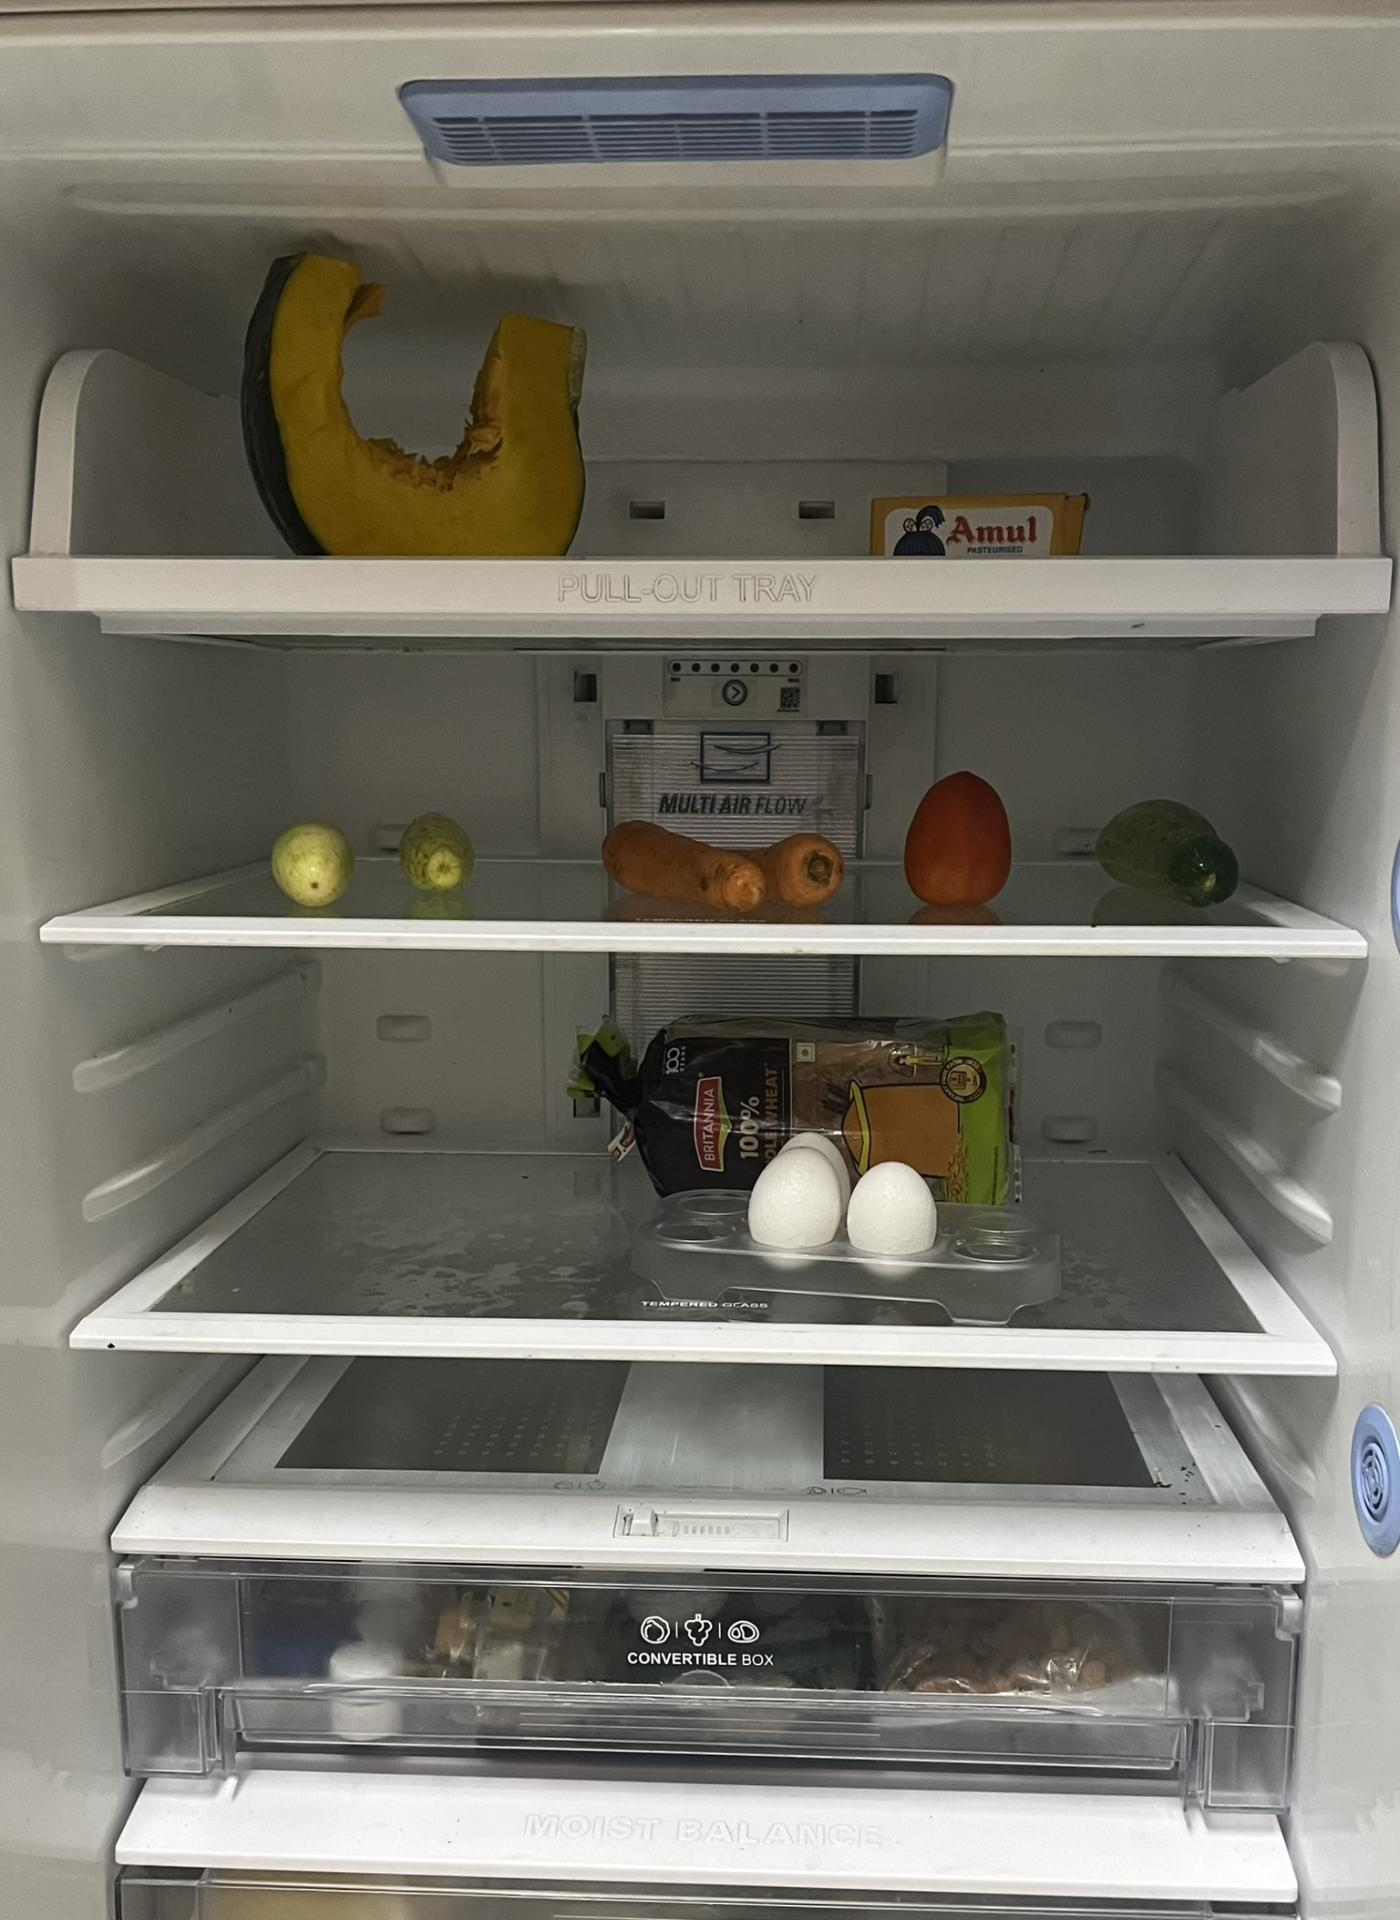bread: (586, 1000, 1021, 1209)
butter: (866, 490, 1094, 556)
cucumber: (1087, 800, 1254, 903), (386, 799, 477, 909), (270, 821, 367, 915)
egg: (741, 1131, 951, 1254), (607, 818, 838, 906)
pumpkin: (237, 244, 592, 559)
tomato: (899, 772, 1024, 912)
